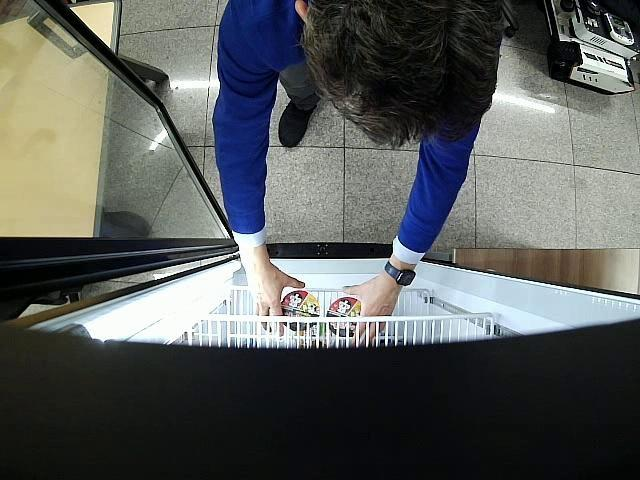08_buldak_S: (326, 296, 362, 338), (282, 292, 321, 330)
